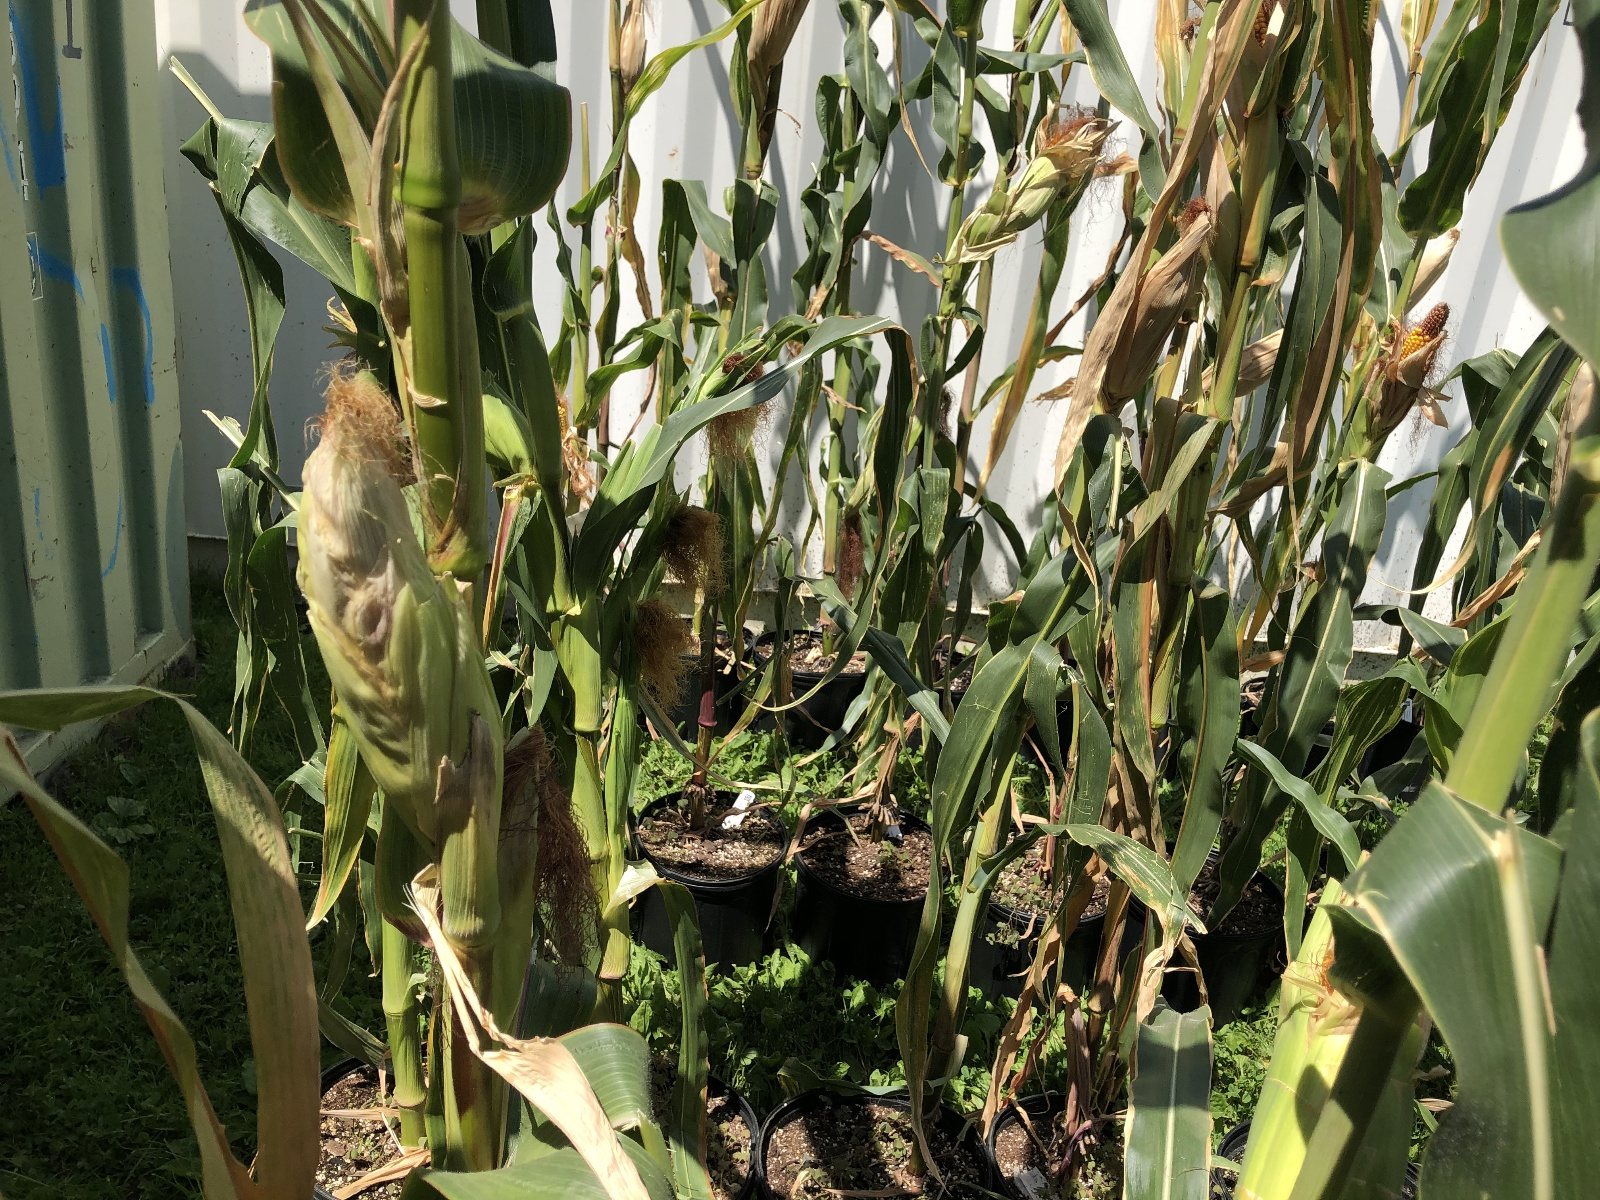ear: (282, 361, 483, 824), (1100, 198, 1220, 400), (978, 113, 1104, 229), (1372, 296, 1455, 434), (745, 1, 811, 67), (614, 3, 661, 86), (1240, 5, 1280, 57)
